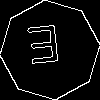E: (25, 25, 63, 73)
